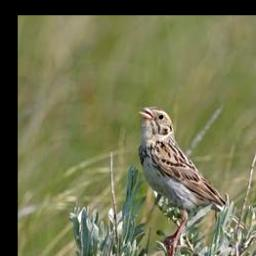Sparrow: (138, 100, 251, 255)
